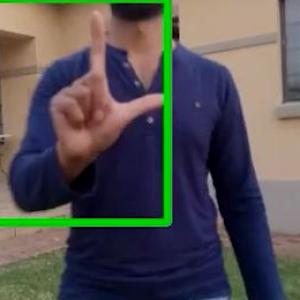land_hand: (44, 4, 168, 166)
